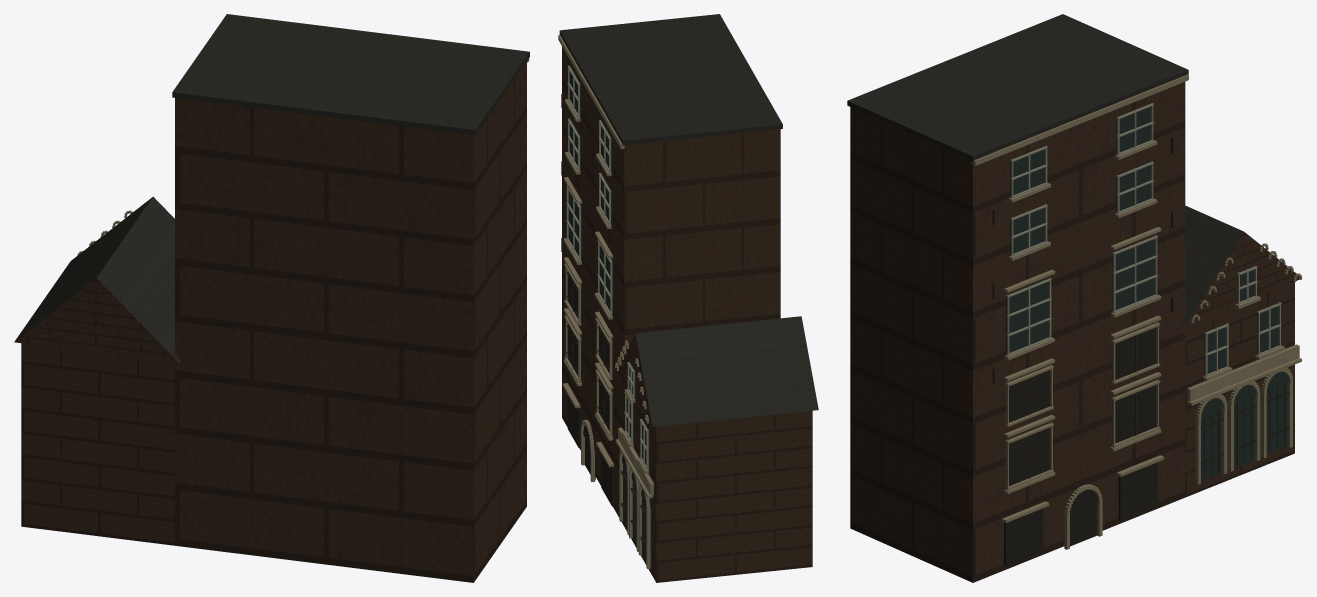
The picture shows the model from 3 angles, left to right: view 1: azimuth 30°, elevation 25°; view 2: azimuth 150°, elevation 25°; view 3: azimuth 270°, elevation 25°; orthographic projection. The views are drawn at different scales.
Parts seen in each view (by area): view 1: bank-van-lening-0, bank-van-lening-1; view 2: bank-van-lening-0, bank-van-lening-1, bank-van-lening-5, bank-van-lening-2, bank-van-lening-3, bank-van-lening-4; view 3: bank-van-lening-0, bank-van-lening-1, bank-van-lening-5, bank-van-lening-3, bank-van-lening-2, bank-van-lening-4.
Boxes of the visible parts, x1,y1,x2,y2 form: bank-van-lening-0: (14, 61, 526, 582); bank-van-lening-1: (14, 14, 529, 362); bank-van-lening-0: (562, 46, 812, 582); bank-van-lening-1: (559, 14, 818, 426); bank-van-lening-5: (558, 34, 653, 568); bank-van-lening-2: (561, 94, 646, 558); bank-van-lening-3: (568, 67, 651, 566); bank-van-lening-4: (566, 65, 648, 470); bank-van-lening-0: (850, 82, 1299, 582); bank-van-lening-1: (847, 14, 1243, 325); bank-van-lening-5: (972, 74, 1302, 549); bank-van-lening-3: (1006, 104, 1288, 481); bank-van-lening-2: (992, 137, 1289, 566); bank-van-lening-4: (1006, 103, 1281, 376).
Bounding box in the file's own units: 20.1 × 21.24 × 20.49.
Materials: 6 (6 with a texture image).
